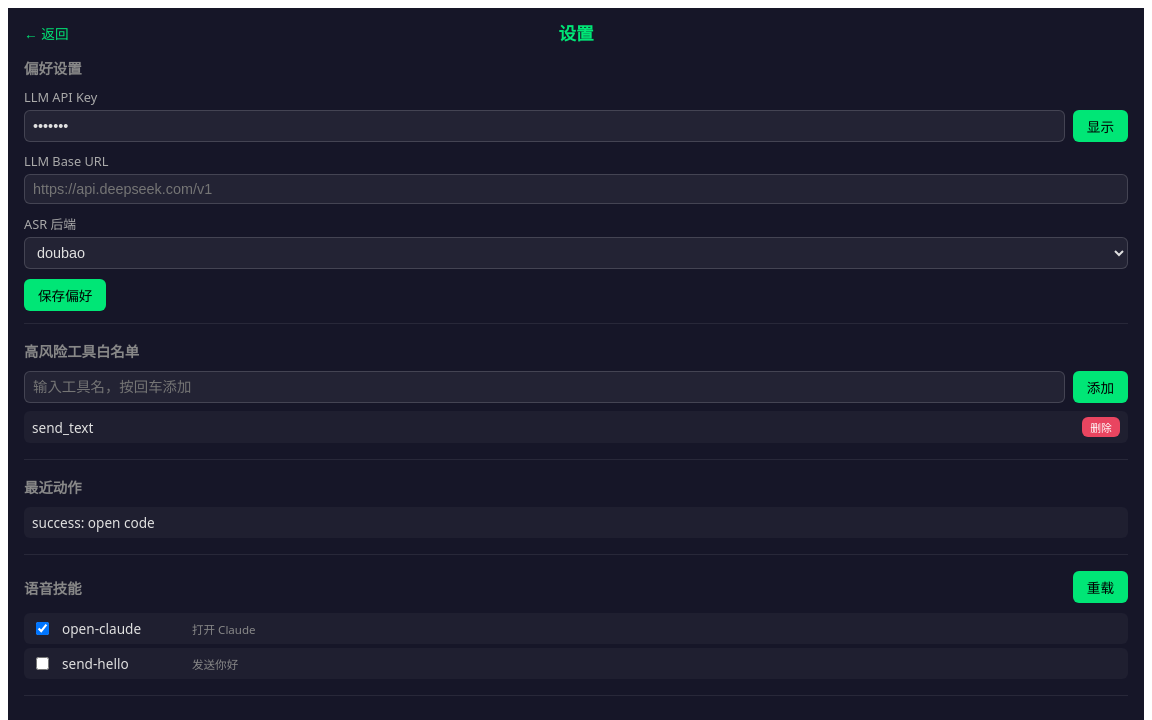
Test: Settings › disables save and shows error for invalid LLM Base URL
Expected: the heading "设置" is shown, [558,21,594,45]
In the field with placeholder "https://api.deepseek.com/v1": (576, 189) [24,174,1128,204], type "not-a-url"
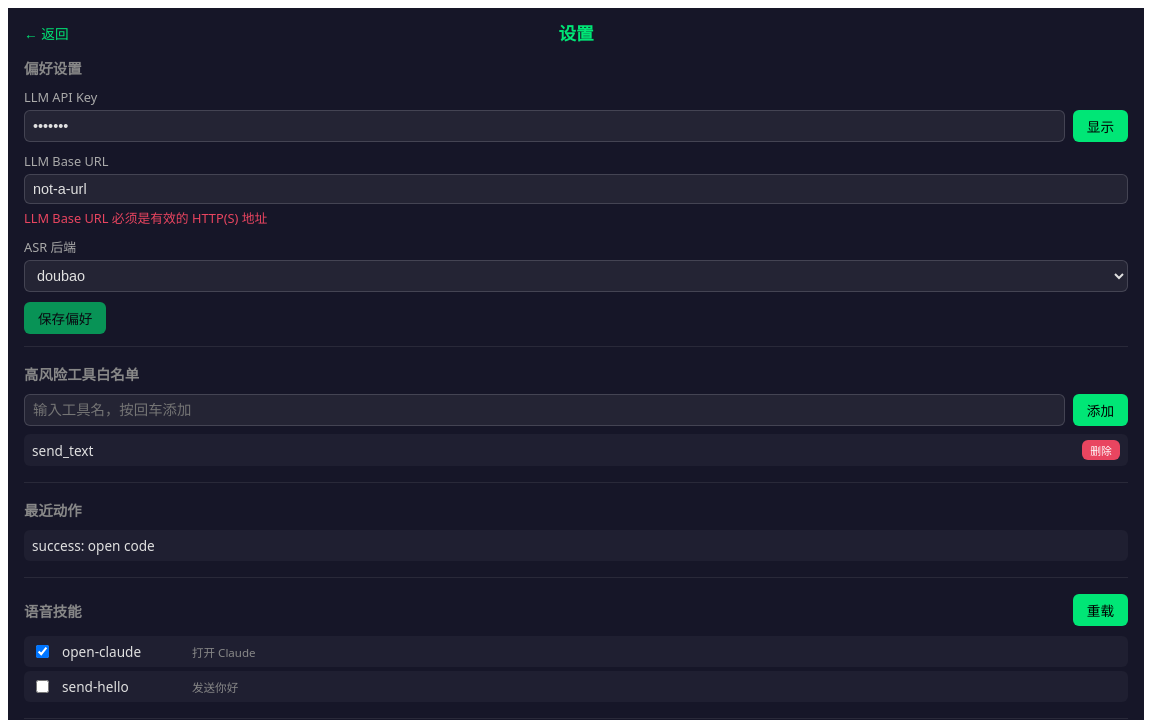
Expected: the text "LLM Base URL 必须是有效的 HTTP(S) 地址" is shown, [24,209,267,227]
Expected: the button "保存偏好" is disabled, [24,302,106,334]
